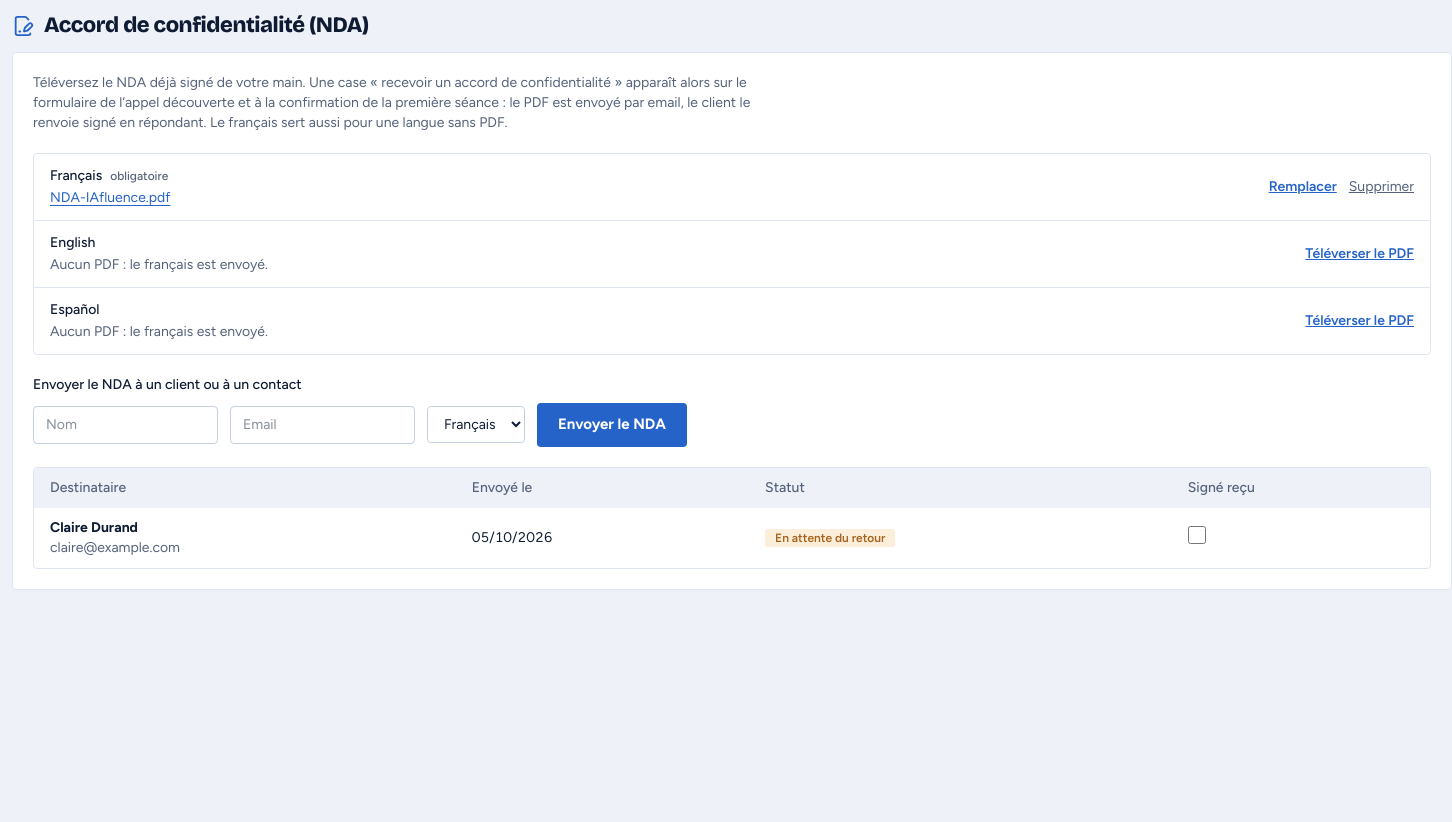
Test case: NdaAgreement › keeps the form when Gmail refuses the email
This screenshot has width=1452, height=822.
Check: the link "NDA-IAfluence.pdf" is shown, box [50,188,170,206]
Type "Paul" into the field named "Nom du destinataire" at {"x": 126, "y": 424}, box [33,406,218,444]
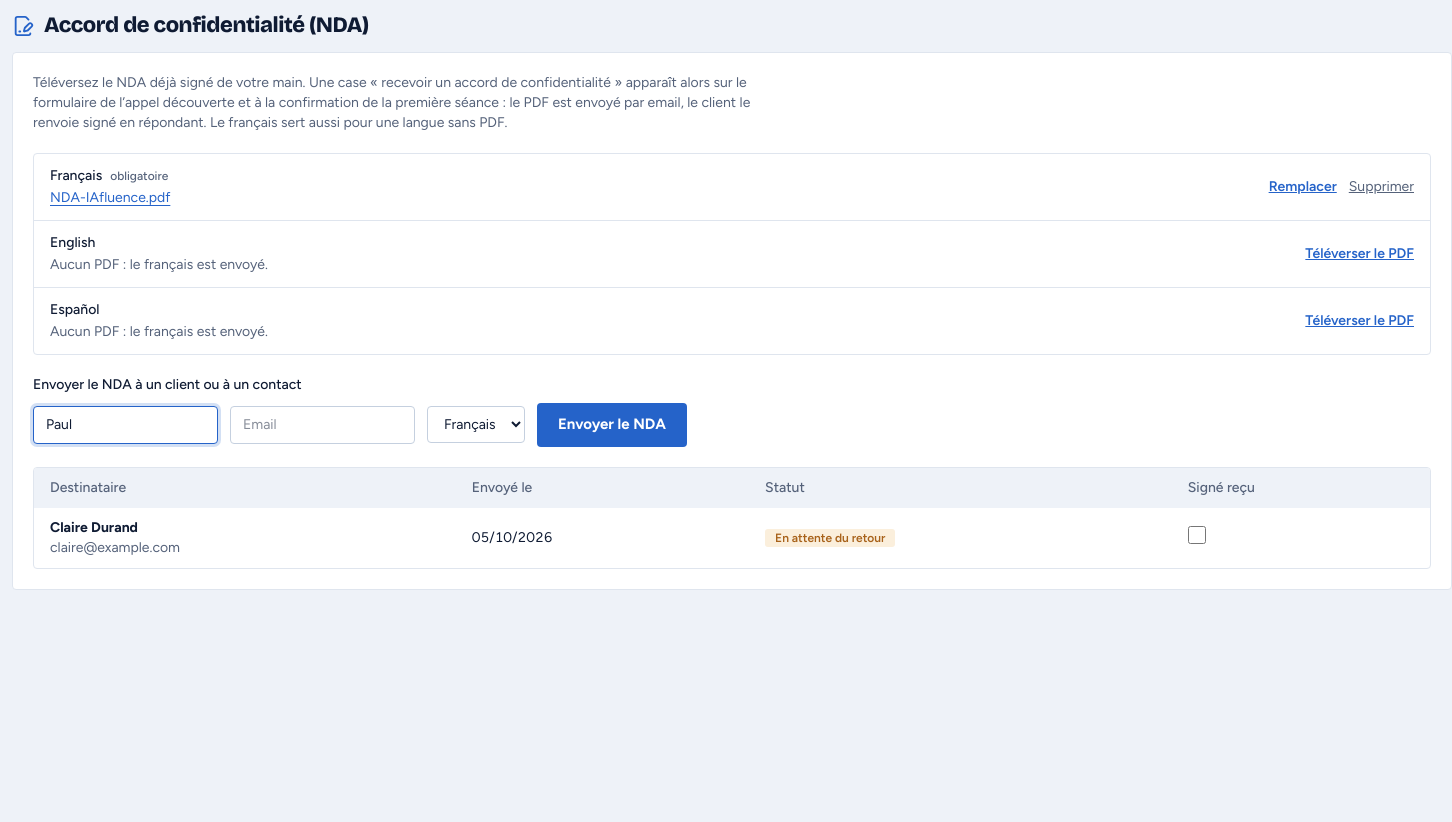
Type "paul@example.com" into the field named "Email du destinataire" at {"x": 322, "y": 424}, box [230,406,415,444]
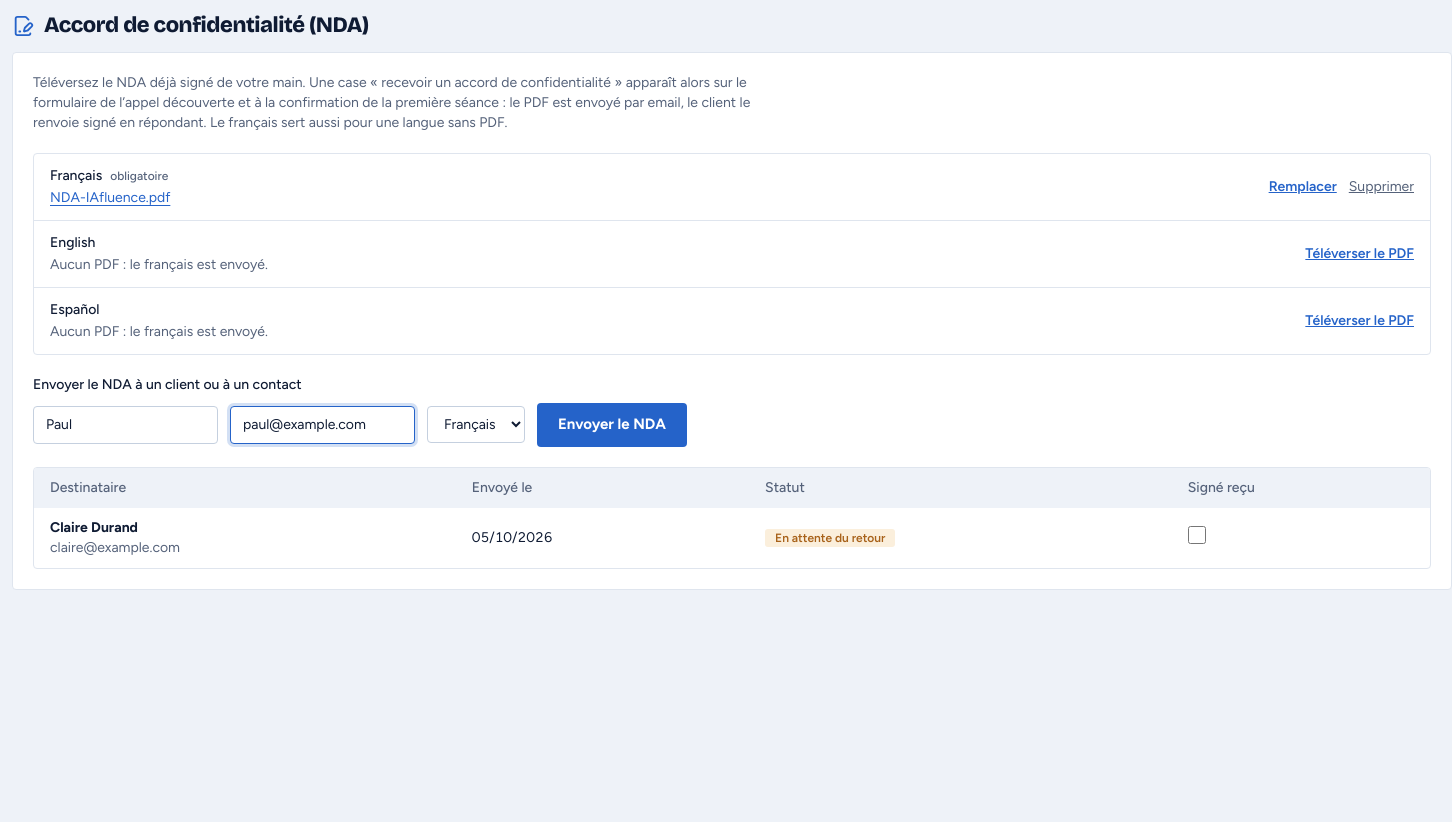
Click the button "Envoyer le NDA" at {"x": 612, "y": 424}, box [537,402,687,446]
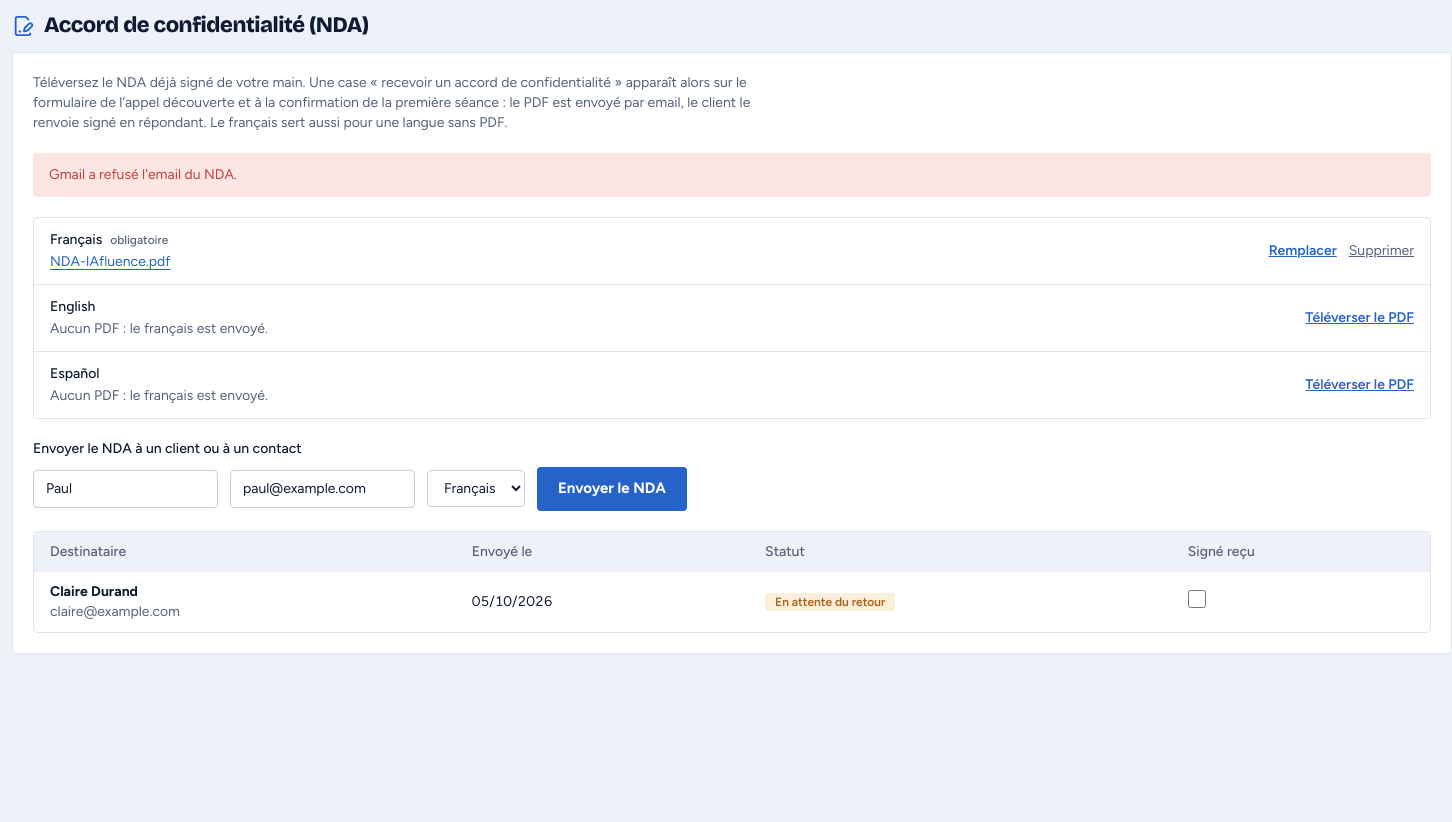
Check: the message reads "Gmail a refusé l'email du NDA.", box [49,166,237,182]
